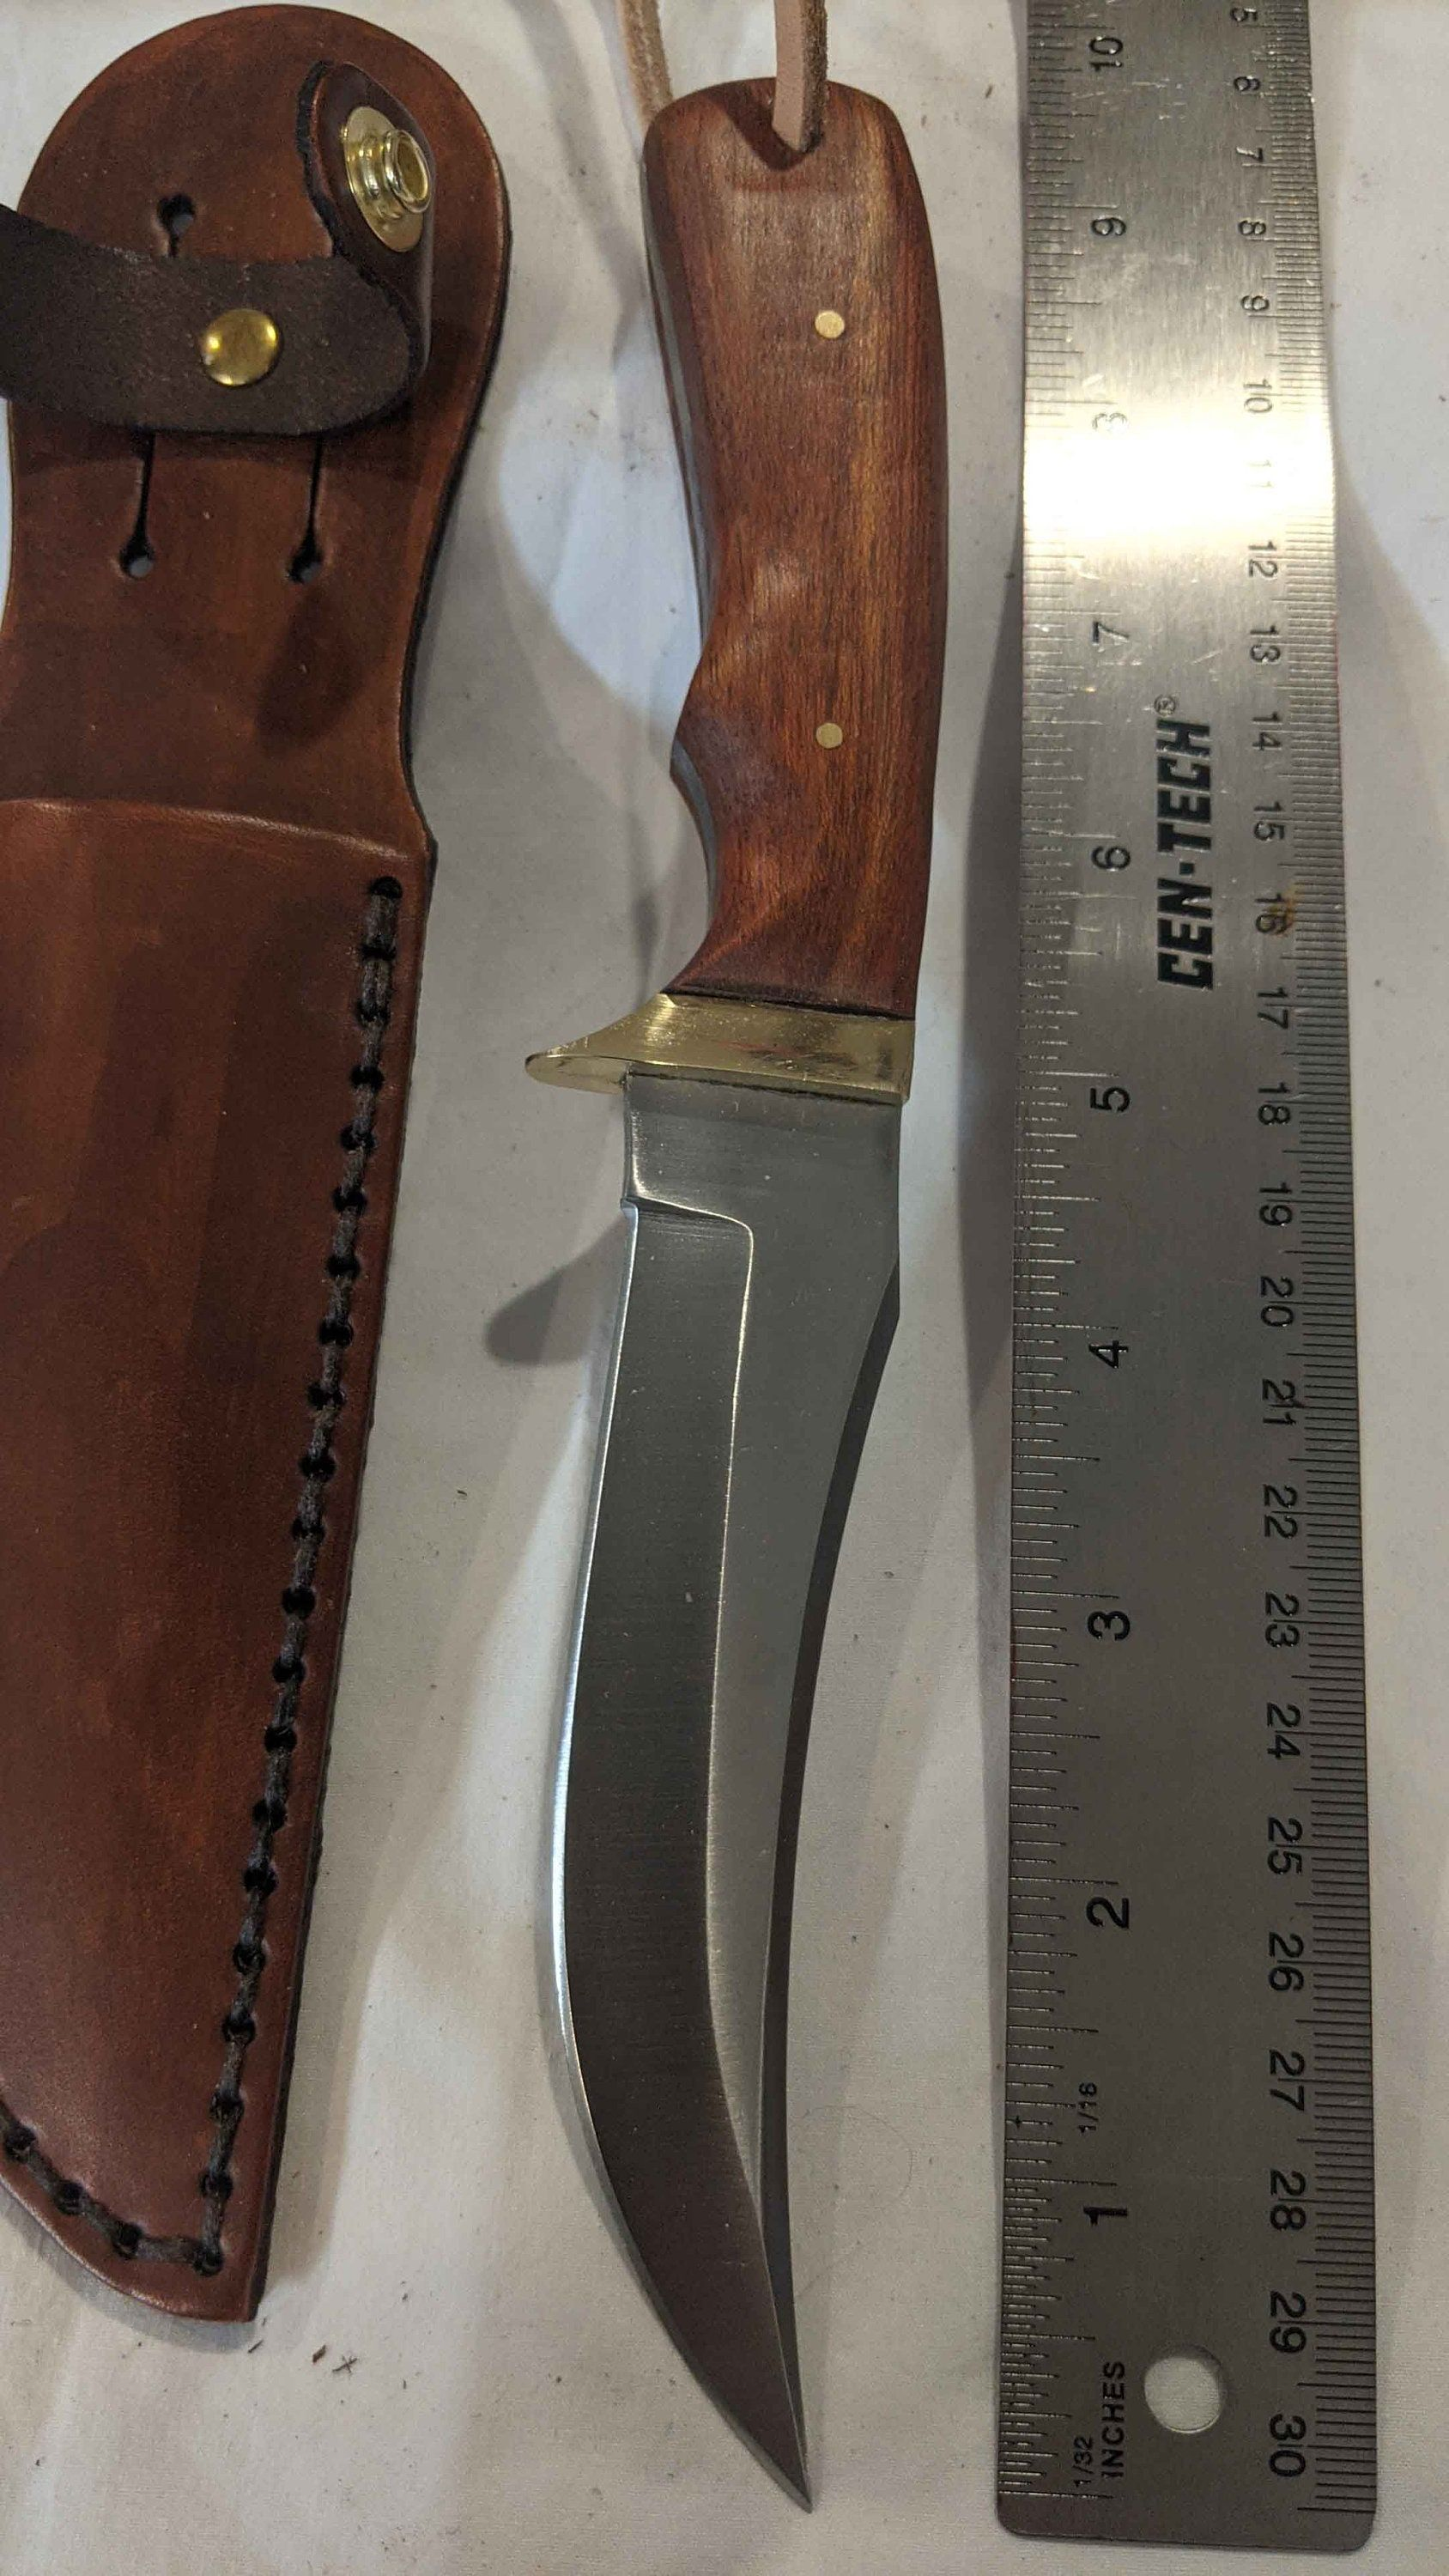knife: (518, 44, 966, 2539)
